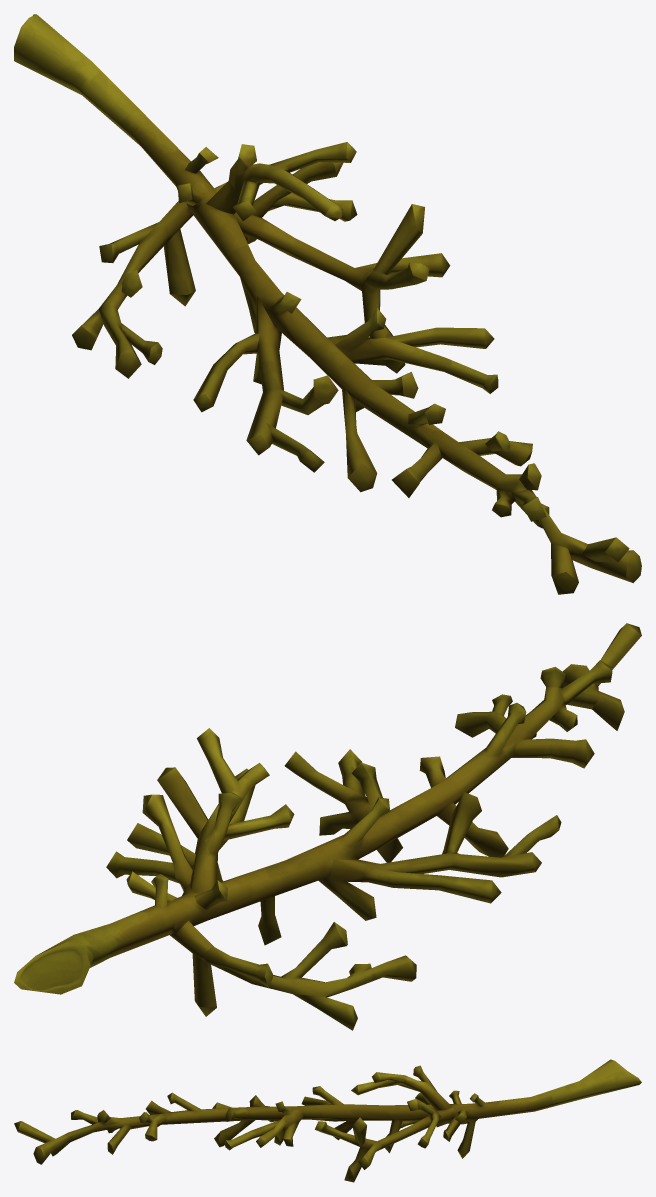
File: SM_GrapesStalk.fbx
3 renders of one model, top to bottom at view 1: azimuth 30°, elevation 25°; view 2: azimuth 150°, elevation 25°; view 3: azimuth 270°, elevation 25°, orthographic. The views are drawn at different scales.
Visible parts, largest first — view 1: SM_GrapesStalk; view 2: SM_GrapesStalk; view 3: SM_GrapesStalk.
Part boxes in pixels (<box>): SM_GrapesStalk: <box>14,14,641,594</box>; SM_GrapesStalk: <box>14,623,641,1030</box>; SM_GrapesStalk: <box>14,1059,641,1182</box>.
Size of the model in its own units: 10.81 by 6.91 by 36.65.
